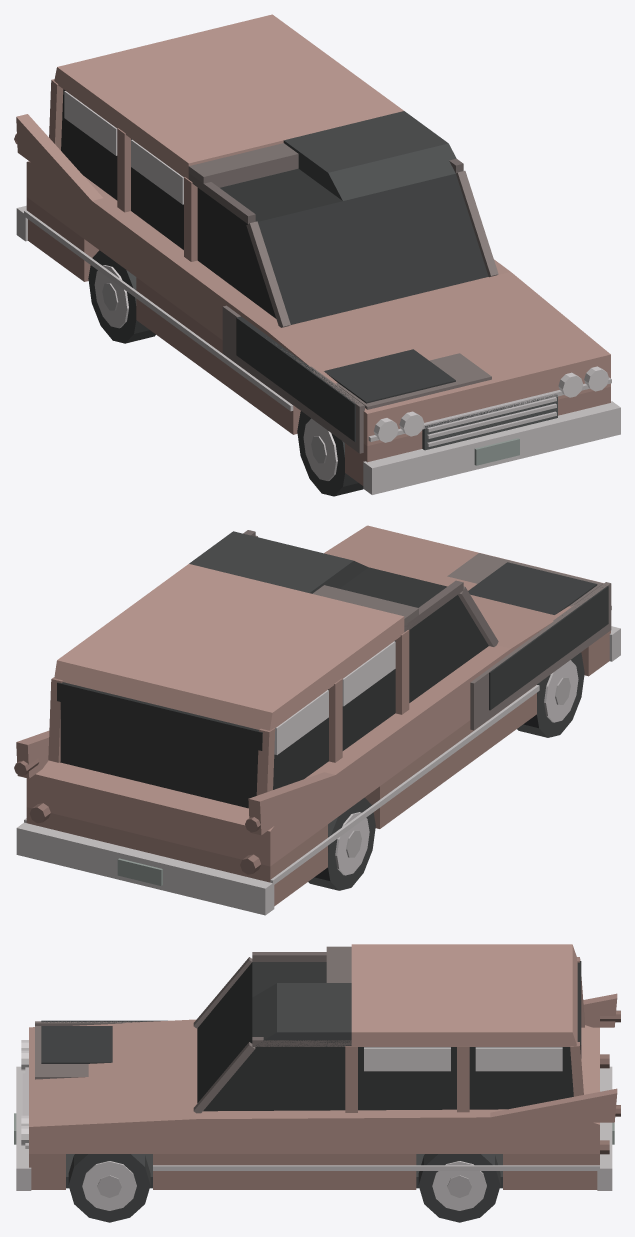
The model's file is suv_queimado.glb.
3 renders of one model, top to bottom at view 1: azimuth 30°, elevation 25°; view 2: azimuth 150°, elevation 25°; view 3: azimuth 270°, elevation 25°, orthographic. The views are drawn at different scales.
Parts seen in each view (by area): view 1: suv_queimado; view 2: suv_queimado; view 3: suv_queimado.
Boxes of the visible parts, x1,y1,x2,y2 form: suv_queimado: [14, 14, 620, 496]; suv_queimado: [14, 525, 620, 915]; suv_queimado: [14, 944, 620, 1222].
Bounding box in the file's own units: 1.96 × 1.65 × 4.89.
